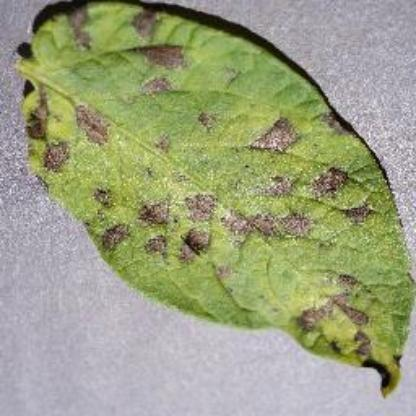Early-Blight: (10, 6, 412, 388)
